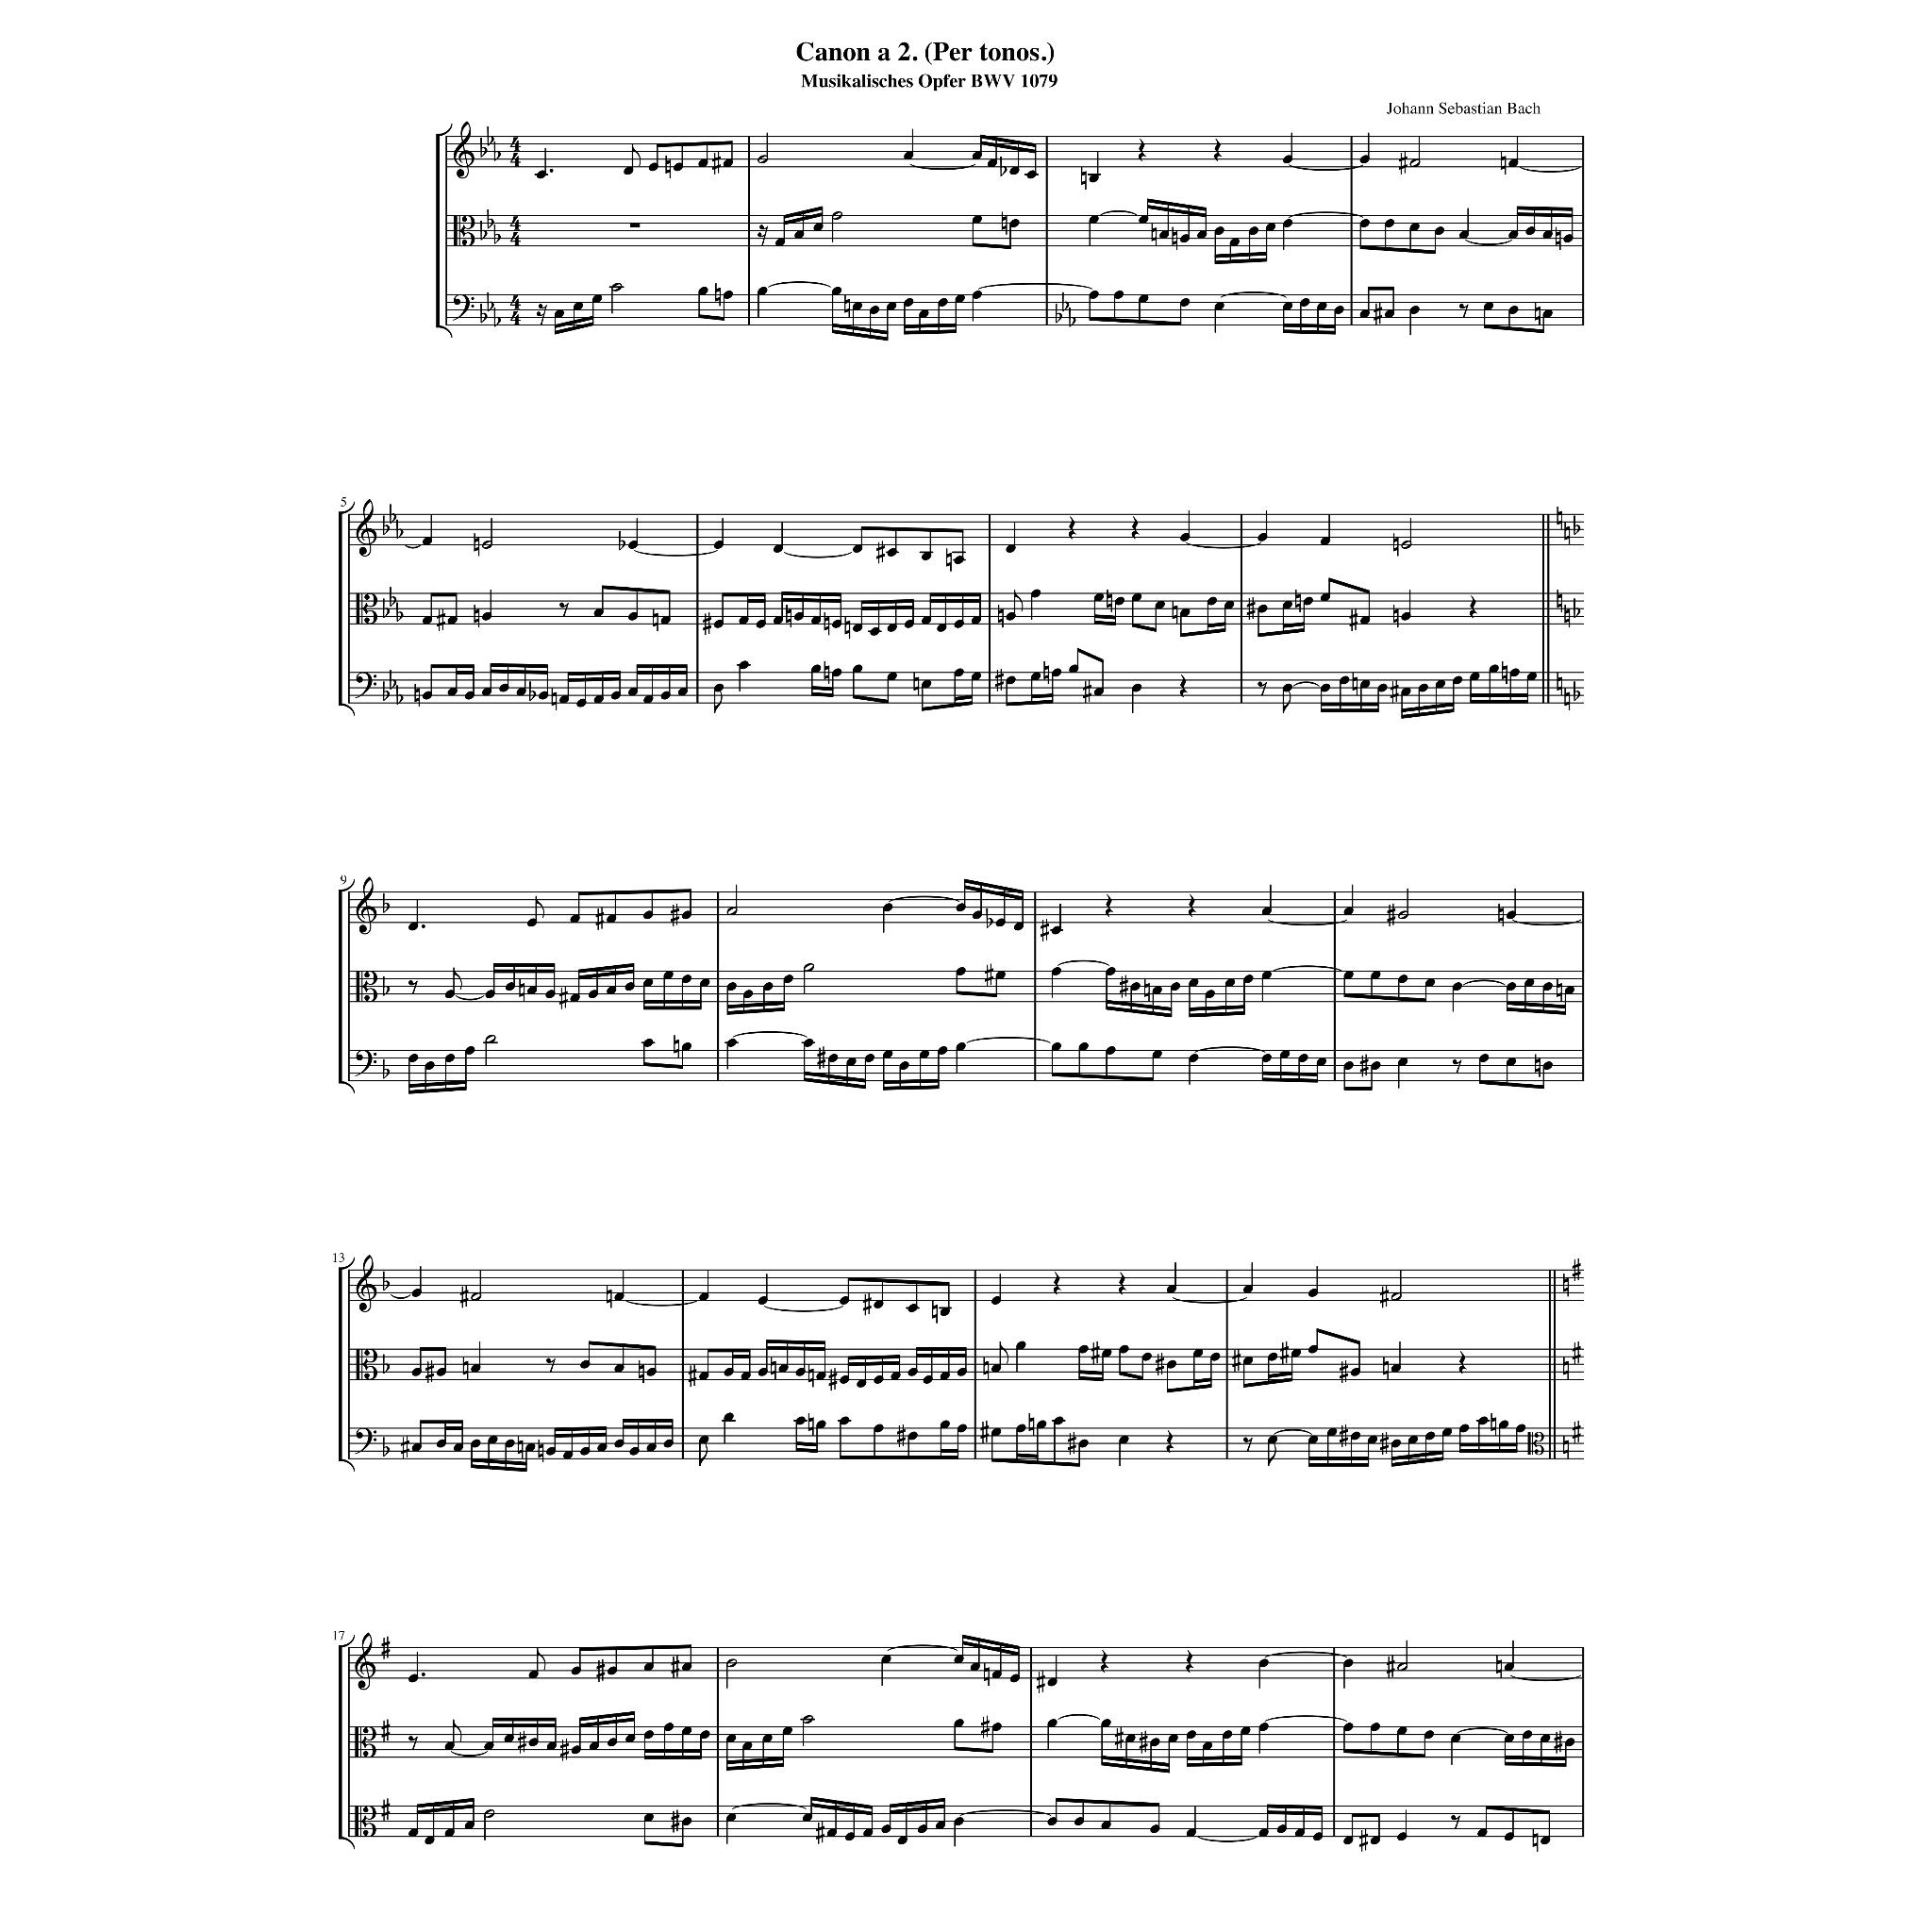fClef: (451, 294, 474, 320), (354, 672, 377, 699), (354, 1049, 377, 1076), (354, 1428, 377, 1454)
flag8thDown: (1283, 690, 1290, 713), (715, 690, 722, 713), (1269, 1444, 1276, 1467), (699, 1444, 706, 1467)
flag8thUp: (1014, 589, 1023, 612), (453, 968, 462, 991), (1000, 1341, 1008, 1364), (453, 1720, 462, 1743), (632, 145, 640, 166), (536, 897, 543, 918), (538, 1649, 545, 1670)
gClef: (354, 1631, 375, 1691), (453, 120, 474, 179), (356, 499, 377, 557), (356, 876, 377, 934), (356, 1254, 377, 1313)
noteheadBlack: (593, 694, 603, 704), (559, 694, 570, 704), (642, 694, 653, 704), (570, 993, 580, 1003), (1242, 1355, 1253, 1366), (1037, 1419, 1047, 1430), (1499, 1419, 1509, 1430), (580, 1445, 591, 1456), (614, 1292, 625, 1302), (545, 1445, 556, 1456), (699, 1292, 709, 1302), (628, 1445, 639, 1456), (816, 1419, 826, 1430), (939, 1419, 950, 1430), (1185, 1828, 1196, 1838), (1295, 1828, 1306, 1838), (1258, 1828, 1269, 1838), (1100, 1718, 1111, 1729), (1477, 1828, 1488, 1838), (570, 1744, 580, 1755), (444, 1828, 455, 1838), (826, 1828, 837, 1838), (954, 1718, 964, 1729), (954, 1654, 964, 1665), (881, 1654, 892, 1665), (1316, 303, 1327, 311), (1299, 299, 1309, 308), (1249, 226, 1260, 235), (1265, 223, 1276, 232), (1283, 156, 1293, 165), (1283, 219, 1293, 228), (1283, 303, 1293, 311), (1334, 306, 1345, 315), (1159, 230, 1169, 239), (1180, 299, 1191, 308), (1113, 290, 1123, 299), (1138, 216, 1148, 225), (1138, 294, 1148, 303), (1214, 226, 1224, 235), (1214, 303, 1224, 311), (1196, 230, 1207, 239), (1525, 226, 1536, 235), (1408, 223, 1419, 232), (1408, 306, 1419, 315), (1384, 219, 1394, 228), (1384, 310, 1394, 318), (1507, 159, 1518, 168), (1507, 230, 1518, 239), (1507, 306, 1518, 315), (1435, 226, 1445, 235), (1483, 303, 1493, 311), (757, 287, 768, 295), (697, 159, 708, 168), (697, 287, 708, 295), (722, 159, 732, 168), (722, 290, 732, 299), (794, 230, 805, 239), (812, 223, 823, 232), (623, 166, 633, 175), (648, 163, 658, 172), (672, 163, 683, 172), (554, 310, 564, 318), (571, 303, 582, 311), (987, 159, 998, 168), (1008, 166, 1019, 175), (1008, 219, 1019, 228), (971, 216, 982, 225), (954, 294, 964, 303), (971, 290, 982, 299), (1026, 170, 1037, 179), (1088, 173, 1099, 182), (1088, 216, 1099, 225), (1088, 290, 1099, 299), (851, 303, 862, 311), (886, 303, 897, 311), (869, 306, 879, 315), (832, 287, 842, 295), (938, 299, 948, 308), (918, 310, 929, 318), (1154, 600, 1164, 609), (1115, 596, 1125, 605), (1207, 596, 1217, 605), (1005, 545, 1016, 554), (1005, 612, 1016, 621), (1005, 676, 1016, 685), (970, 616, 980, 625), (970, 672, 980, 681), (1051, 669, 1062, 678), (1093, 593, 1104, 602), (1093, 686, 1104, 695), (1509, 669, 1520, 678), (1527, 672, 1537, 681), (1435, 679, 1445, 688), (1453, 676, 1463, 685), (1468, 672, 1479, 681), (1417, 683, 1428, 692), (1320, 536, 1330, 545), (1320, 593, 1330, 602), (1320, 683, 1330, 692), (1281, 600, 1292, 609), (1339, 676, 1350, 685), (1281, 683, 1292, 692), (1376, 683, 1387, 692), (626, 541, 637, 550), (626, 612, 637, 621), (626, 686, 637, 695), (713, 541, 724, 550), (713, 619, 724, 628), (713, 683, 724, 692), (660, 616, 671, 625), (421, 536, 432, 545), (421, 616, 432, 625), (499, 683, 510, 692), (515, 686, 525, 695), (481, 612, 492, 621), (481, 686, 492, 695), (869, 626, 879, 635), (886, 548, 897, 557), (886, 625, 897, 633), (886, 672, 897, 681), (832, 619, 842, 628), (832, 669, 842, 678), (853, 545, 863, 554), (853, 625, 863, 633), (936, 625, 947, 633), (954, 556, 964, 564), (954, 619, 964, 628), (954, 669, 964, 678), (922, 552, 932, 561), (922, 616, 932, 625), (922, 679, 932, 688), (738, 616, 748, 625), (755, 619, 766, 628), (771, 545, 782, 554), (771, 616, 782, 625), (794, 612, 805, 621), (810, 616, 821, 625), (1343, 971, 1353, 980), (1224, 978, 1235, 987), (1169, 982, 1180, 991), (1279, 1051, 1290, 1060), (1297, 1054, 1307, 1063), (1316, 1058, 1327, 1067), (1242, 975, 1253, 984), (1261, 971, 1272, 980), (1261, 1054, 1272, 1063), (1051, 1042, 1062, 1051), (1014, 922, 1024, 931), (1051, 925, 1062, 934), (1051, 968, 1062, 977), (1152, 985, 1162, 994), (1152, 1051, 1162, 1060), (1077, 1042, 1088, 1051), (1106, 968, 1116, 977), (1564, 985, 1575, 994), (1369, 971, 1380, 980), (1369, 1062, 1380, 1070), (1398, 975, 1408, 984), (1479, 1054, 1490, 1063), (1453, 982, 1463, 991), (1506, 911, 1516, 920), (1506, 982, 1516, 991), (1506, 1058, 1516, 1067), (1398, 1058, 1408, 1067), (1343, 1062, 1353, 1070), (1424, 978, 1435, 987), (527, 918, 538, 927), (527, 985, 538, 994), (570, 915, 580, 924), (994, 971, 1005, 980), (681, 911, 692, 920), (681, 975, 692, 984), (681, 1042, 692, 1051), (625, 982, 635, 991), (642, 911, 653, 920), (642, 978, 653, 987), (642, 1039, 653, 1047), (504, 982, 515, 991), (425, 1062, 435, 1070), (444, 1054, 455, 1063), (828, 1054, 839, 1063), (782, 975, 793, 984), (955, 1042, 966, 1051), (955, 968, 966, 977), (803, 1039, 814, 1047), (918, 1051, 929, 1060), (883, 1051, 893, 1060), (899, 1062, 909, 1070), (846, 1058, 856, 1067), (763, 982, 773, 991), (863, 1054, 874, 1063), (699, 978, 709, 987), (725, 982, 736, 991), (725, 1039, 736, 1047), (971, 911, 982, 920), (994, 918, 1005, 927), (1118, 1435, 1129, 1444), (1141, 1352, 1152, 1361), (1166, 1284, 1177, 1293), (1077, 1345, 1088, 1353), (1077, 1438, 1088, 1447), (1118, 1345, 1129, 1353), (1242, 1284, 1253, 1293), (1192, 1348, 1203, 1357), (1210, 1352, 1221, 1361), (991, 1297, 1001, 1306), (991, 1364, 1001, 1373), (991, 1428, 1001, 1437), (955, 1368, 966, 1376), (955, 1424, 966, 1433), (1016, 1341, 1026, 1350), (1016, 1424, 1026, 1433), (1408, 1435, 1419, 1444), (1424, 1431, 1435, 1440), (1442, 1428, 1453, 1437), (1292, 1348, 1302, 1357), (1307, 1288, 1318, 1297), (1307, 1345, 1318, 1353), (1307, 1435, 1318, 1444), (1267, 1352, 1277, 1361), (1267, 1435, 1277, 1444), (1391, 1438, 1401, 1447), (1368, 1435, 1378, 1444), (1391, 1364, 1401, 1373), (1327, 1428, 1338, 1437), (1350, 1368, 1361, 1376), (1350, 1431, 1361, 1440), (614, 1364, 625, 1373), (614, 1438, 625, 1447), (563, 1451, 573, 1460), (699, 1371, 709, 1380), (699, 1435, 709, 1444), (646, 1368, 656, 1376), (410, 1288, 421, 1297), (410, 1368, 421, 1376), (435, 1368, 446, 1376), (487, 1435, 497, 1444), (504, 1438, 515, 1447), (435, 1438, 446, 1447), (939, 1371, 950, 1380), (471, 1364, 481, 1373), (471, 1438, 481, 1447), (856, 1378, 867, 1387), (872, 1300, 883, 1309), (872, 1424, 883, 1433), (816, 1371, 826, 1380), (839, 1297, 849, 1306), (939, 1307, 950, 1316), (890, 1371, 901, 1380), (908, 1304, 918, 1313), (908, 1368, 918, 1376), (908, 1431, 918, 1440), (724, 1368, 734, 1376), (724, 1412, 734, 1421), (740, 1371, 750, 1380), (757, 1297, 768, 1306), (757, 1368, 768, 1376), (794, 1368, 805, 1376), (1343, 1723, 1353, 1732), (1223, 1730, 1233, 1739), (1168, 1734, 1178, 1743), (1185, 1730, 1196, 1739), (1276, 1824, 1286, 1833), (1313, 1833, 1323, 1842), (1240, 1727, 1251, 1736), (1258, 1723, 1269, 1732), (1008, 1674, 1019, 1683), (1047, 1718, 1056, 1729), (1125, 1734, 1136, 1743), (1150, 1737, 1161, 1746), (1150, 1824, 1161, 1833), (1074, 1817, 1085, 1826), (1100, 1821, 1111, 1829), (1564, 1737, 1575, 1746), (1522, 1730, 1532, 1739), (1539, 1734, 1550, 1743), (1539, 1836, 1550, 1845), (1369, 1723, 1380, 1732), (1369, 1836, 1380, 1845), (1396, 1727, 1407, 1736), (1451, 1734, 1461, 1743), (1504, 1663, 1514, 1672), (1504, 1734, 1514, 1743), (1504, 1833, 1514, 1842), (1396, 1833, 1407, 1842), (1343, 1836, 1353, 1845), (1424, 1730, 1435, 1739), (607, 1667, 617, 1675), (607, 1737, 617, 1746), (527, 1670, 538, 1679), (527, 1737, 538, 1746), (570, 1667, 580, 1675), (991, 1723, 1001, 1732), (681, 1663, 692, 1672), (681, 1727, 692, 1736), (681, 1817, 692, 1826), (625, 1734, 635, 1743), (642, 1663, 653, 1672), (642, 1730, 653, 1739), (642, 1813, 653, 1822), (409, 1828, 418, 1838), (464, 1821, 474, 1829), (425, 1836, 435, 1845), (782, 1727, 793, 1736), (954, 1817, 964, 1826), (801, 1813, 812, 1822), (881, 1824, 892, 1833), (897, 1836, 908, 1845), (936, 1821, 947, 1829), (844, 1833, 855, 1842), (863, 1828, 872, 1838), (699, 1730, 709, 1739), (725, 1734, 736, 1743), (725, 1813, 736, 1822), (970, 1663, 980, 1672), (991, 1670, 1001, 1679), (1361, 156, 1369, 165), (1361, 219, 1369, 228), (1361, 310, 1369, 318), (1543, 230, 1552, 239), (1543, 310, 1552, 318), (1460, 230, 1468, 239), (536, 170, 545, 179), (593, 294, 602, 303), (904, 299, 913, 308), (1132, 593, 1141, 602), (1132, 683, 1141, 692), (1224, 600, 1233, 609), (1031, 589, 1040, 598), (1031, 672, 1040, 681), (1304, 596, 1313, 605), (1401, 612, 1410, 621), (1401, 686, 1410, 695), (1361, 616, 1369, 625), (1361, 679, 1369, 688), (577, 699, 586, 708), (448, 616, 456, 625), (448, 686, 456, 695), (678, 686, 686, 695), (904, 619, 913, 628), (1189, 978, 1198, 987), (1189, 1054, 1198, 1063), (1131, 982, 1139, 991), (1525, 978, 1534, 987), (1543, 982, 1552, 991), (1543, 1062, 1552, 1070), (607, 915, 616, 924), (607, 985, 616, 994), (663, 971, 672, 980), (409, 922, 418, 931), (409, 1054, 418, 1063), (1102, 1348, 1111, 1357), (1460, 1424, 1468, 1433), (1516, 1424, 1525, 1433), (663, 1438, 672, 1447), (778, 1364, 787, 1373), (1047, 1817, 1056, 1826), (1047, 1677, 1056, 1686), (663, 1723, 672, 1732), (409, 1674, 418, 1683), (504, 1734, 513, 1743), (918, 1824, 927, 1833), (763, 1734, 771, 1743), (1180, 235, 1191, 242), (1228, 239, 1238, 246), (1562, 235, 1573, 242), (775, 239, 786, 246), (971, 152, 982, 159), (1180, 534, 1191, 541), (1180, 609, 1191, 616), (1256, 534, 1267, 541), (1256, 605, 1267, 612), (1490, 665, 1500, 672), (593, 609, 603, 616), (610, 692, 621, 699), (538, 692, 548, 699), (660, 692, 671, 699), (421, 692, 432, 699), (464, 692, 474, 699), (853, 665, 863, 672), (738, 662, 748, 669), (810, 665, 821, 672), (1205, 991, 1215, 998), (1343, 908, 1353, 915), (1261, 908, 1272, 915), (1106, 1047, 1116, 1054), (587, 991, 598, 998), (545, 991, 556, 998), (485, 991, 495, 998), (444, 991, 455, 998), (955, 904, 966, 911), (883, 904, 893, 911), (938, 1047, 948, 1054), (1166, 1361, 1177, 1368), (1053, 1417, 1063, 1424), (1477, 1417, 1488, 1424), (580, 1361, 591, 1368), (596, 1444, 607, 1451), (525, 1444, 536, 1451), (646, 1444, 656, 1451), (410, 1444, 421, 1451), (453, 1444, 464, 1451), (872, 1376, 883, 1384), (839, 1376, 849, 1384), (839, 1417, 849, 1424), (922, 1376, 932, 1384), (794, 1417, 805, 1424), (1343, 1660, 1353, 1667), (1258, 1660, 1269, 1667), (587, 1743, 598, 1750), (545, 1743, 556, 1750), (483, 1743, 494, 1750), (444, 1743, 455, 1750), (741, 1743, 752, 1750), (904, 152, 913, 159), (1069, 665, 1077, 672), (465, 1047, 474, 1054), (743, 991, 752, 998), (1203, 1743, 1212, 1750)
noteheadHalf: (1410, 159, 1421, 168), (757, 156, 768, 165), (832, 212, 842, 221), (1401, 541, 1412, 550), (481, 541, 492, 550), (1398, 911, 1408, 920), (485, 1035, 495, 1044), (1391, 1293, 1401, 1302), (471, 1293, 481, 1302), (1398, 1663, 1408, 1672), (483, 1810, 494, 1819), (801, 1716, 814, 1723), (610, 283, 621, 290), (803, 964, 814, 971), (725, 908, 736, 915), (725, 1660, 736, 1667)
rest16th: (757, 225, 768, 248), (536, 304, 547, 326)
rest8th: (407, 980, 418, 996), (407, 1736, 418, 1752), (545, 1359, 556, 1373), (1258, 681, 1267, 697), (559, 602, 568, 617), (1244, 1437, 1253, 1453), (1460, 304, 1468, 318), (1453, 1060, 1461, 1074), (1451, 1815, 1460, 1829)
restQuarter: (1468, 594, 1477, 619), (1187, 893, 1196, 918), (1458, 1350, 1467, 1375), (1185, 1649, 1194, 1674), (1100, 1649, 1109, 1674), (1138, 138, 1146, 161), (1214, 138, 1223, 161), (1180, 674, 1189, 697), (1131, 517, 1139, 540), (1067, 517, 1076, 540), (1118, 1272, 1127, 1295), (1166, 1430, 1175, 1453), (1053, 1272, 1062, 1295), (1106, 893, 1113, 918)
restWhole: (628, 223, 639, 228)
